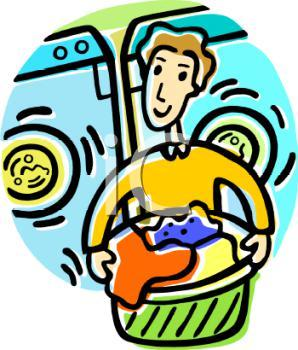person: (77, 23, 277, 284)
